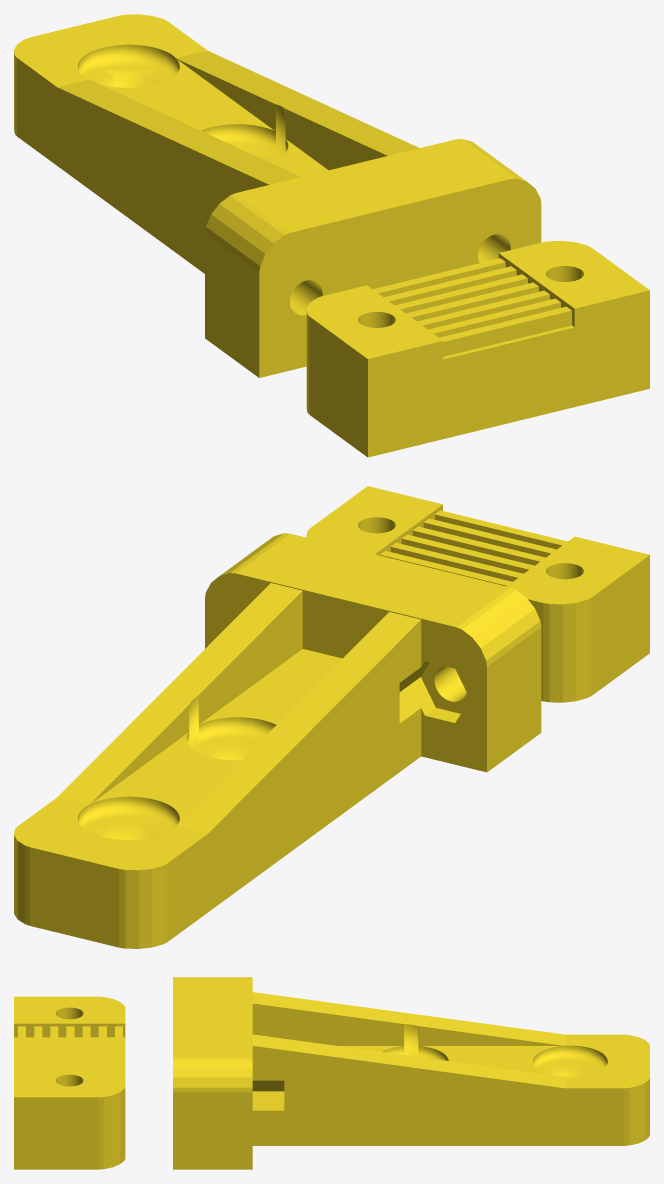
File: openscad_beltclamp.glb
3 views of the same model, one above another, from view 1: azimuth 30°, elevation 25°; view 2: azimuth 150°, elevation 25°; view 3: azimuth 270°, elevation 25° (orthographic). The views are drawn at different scales.
Visible parts, largest first — view 1: object; view 2: object; view 3: object.
Boxes of the visible parts, left/top/right/bottom form: object: left=14, top=14, right=649, bottom=457; object: left=14, top=486, right=649, bottom=948; object: left=14, top=977, right=649, bottom=1169.
Bounding box in the file's own units: 30 × 14 × 80.
